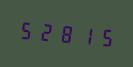eight: (56, 19, 74, 47)
five: (18, 15, 36, 44), (94, 22, 112, 50)
one: (75, 20, 93, 49)
two: (37, 17, 55, 45)
